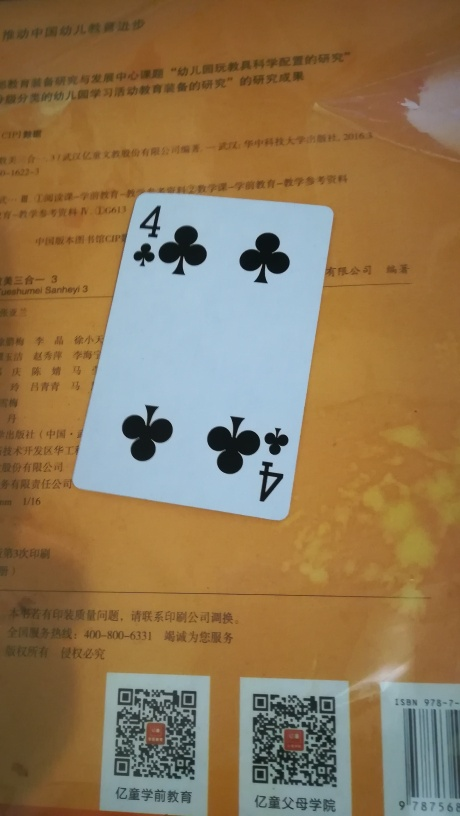mh 4: (71, 188, 333, 526)
